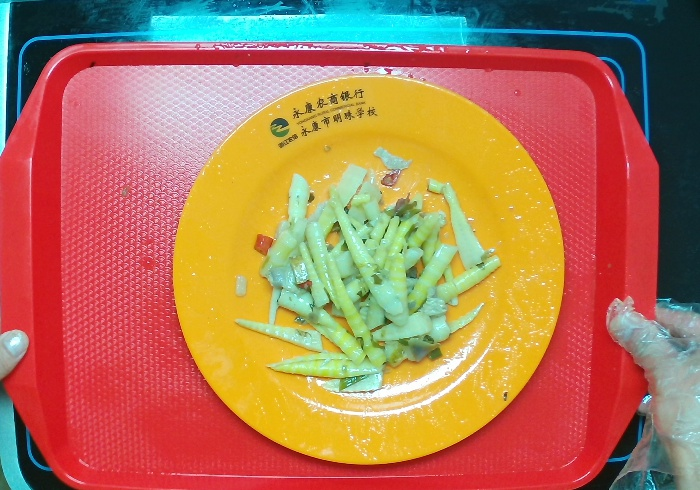YKMZ-Ju_Se_Mian_Pan: (159, 60, 582, 478)
